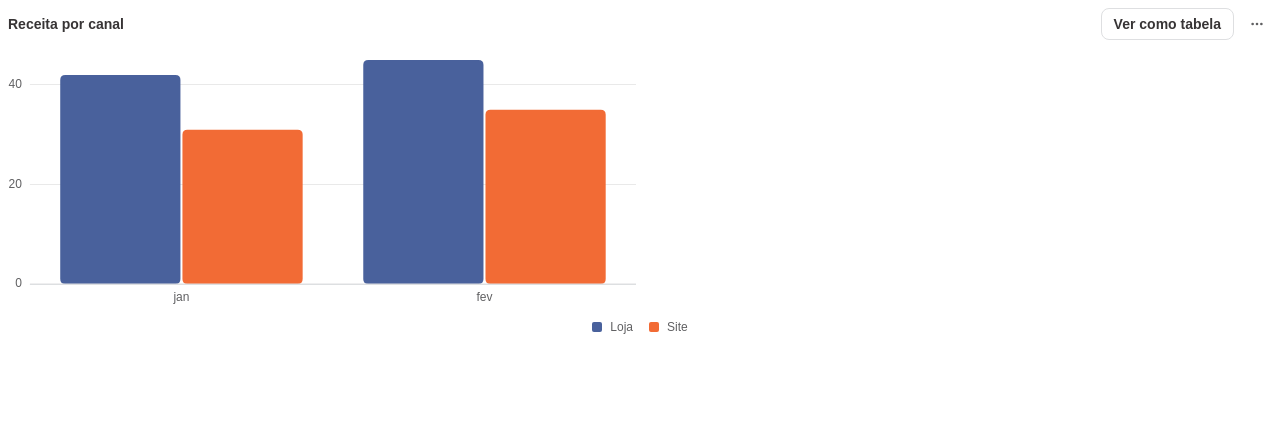
Scenario: exportable › o menu "Opções do gráfico" oferece PNG e SVG
The image size is (1280, 447).
What coordinates should you click on to do the following:
click the button named "Opções do gráfico Receita por canal"
I would click on:
 (1257, 24)
Its box is [1242, 9, 1272, 39].
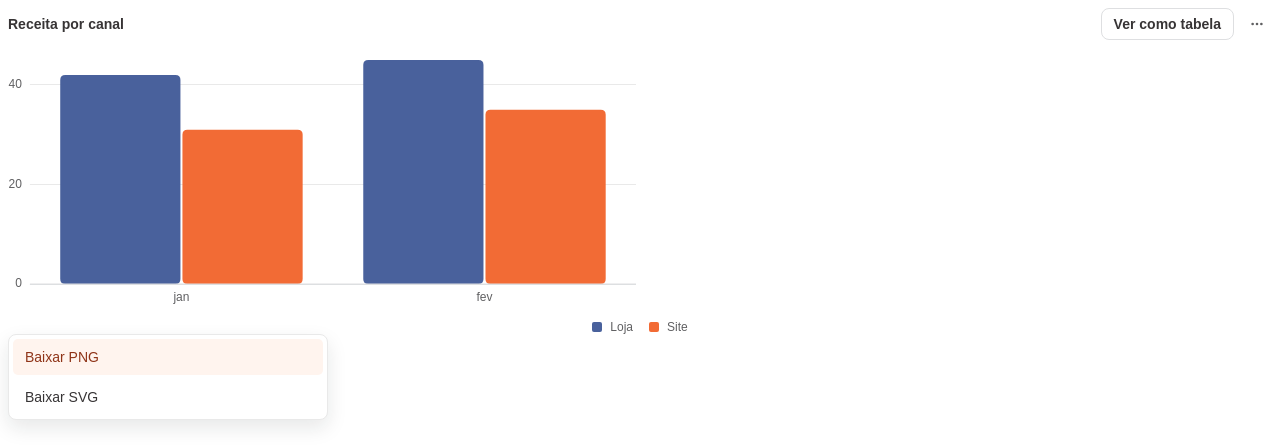
Expected: the menu named "Opções do gráfico Receita por canal" is shown, [8, 334, 328, 420]
Expected: the menu items read "Baixar PNG", "Baixar SVG", in this order, [13, 339, 323, 375]; [13, 379, 323, 415]
